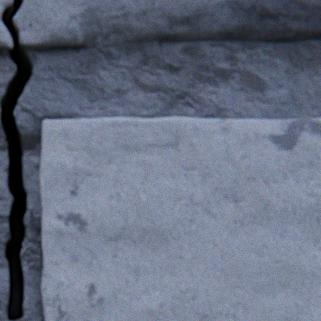brick: (40, 118, 320, 320)
broken_brick: (13, 0, 320, 49), (0, 0, 13, 51)
crack: (0, 0, 33, 320)
